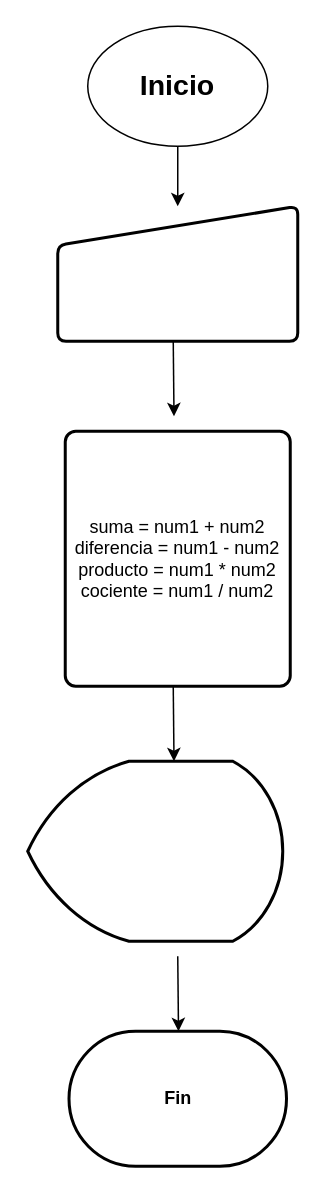
Image size: 324x1194. Some labels were removed from this diagram. The shapes that lost their labels are listed below. From the top down, each one's box as (x1, y1, x2, y2) in pixels, then its label:
(56, 204, 298, 342): Entrada num1, num2
(26, 759, 284, 942): Imprimir suma, diferencia, producto, cociente
